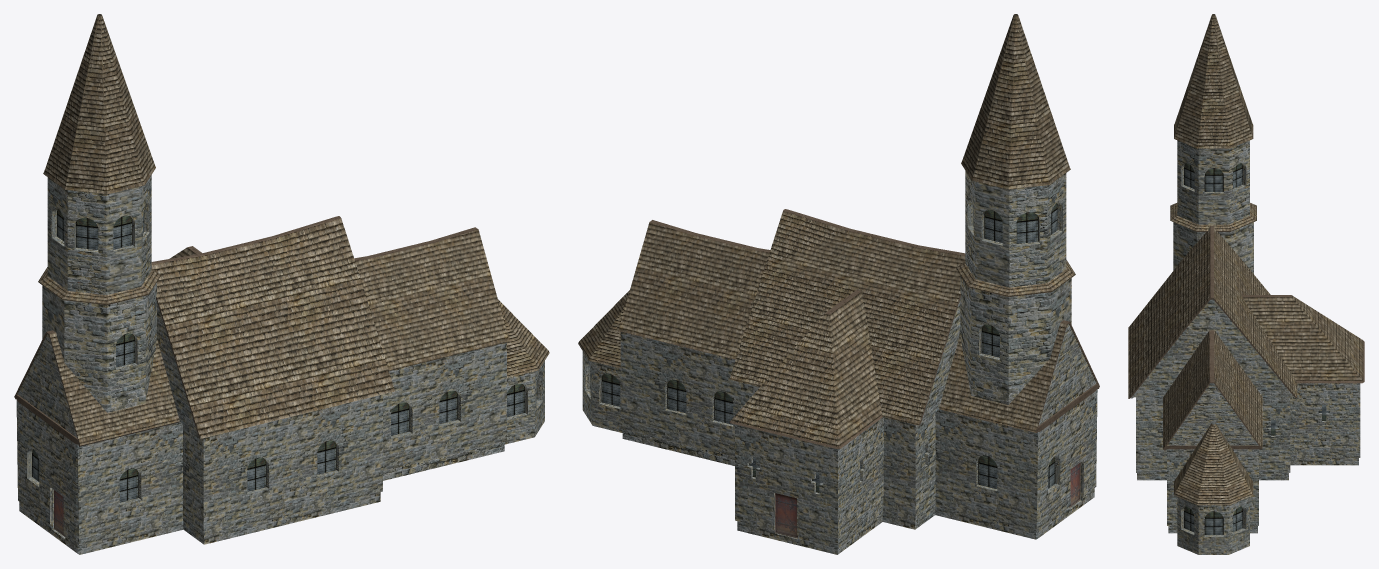
The model's file is f1_church_1_lod2.dae.
The picture shows the model from 3 angles, left to right: view 1: azimuth 30°, elevation 25°; view 2: azimuth 150°, elevation 25°; view 3: azimuth 270°, elevation 25°; orthographic projection. The views are drawn at different scales.
Visible parts, largest first — view 1: Default_Layer; view 2: Default_Layer; view 3: Default_Layer.
Boxes of the visible parts, left/top/right/bottom form: Default_Layer: left=14, top=14, right=549, bottom=554; Default_Layer: left=578, top=14, right=1099, bottom=554; Default_Layer: left=1128, top=14, right=1364, bottom=554.
Size of the model in its own units: 19.32 by 18.97 by 10.66.
